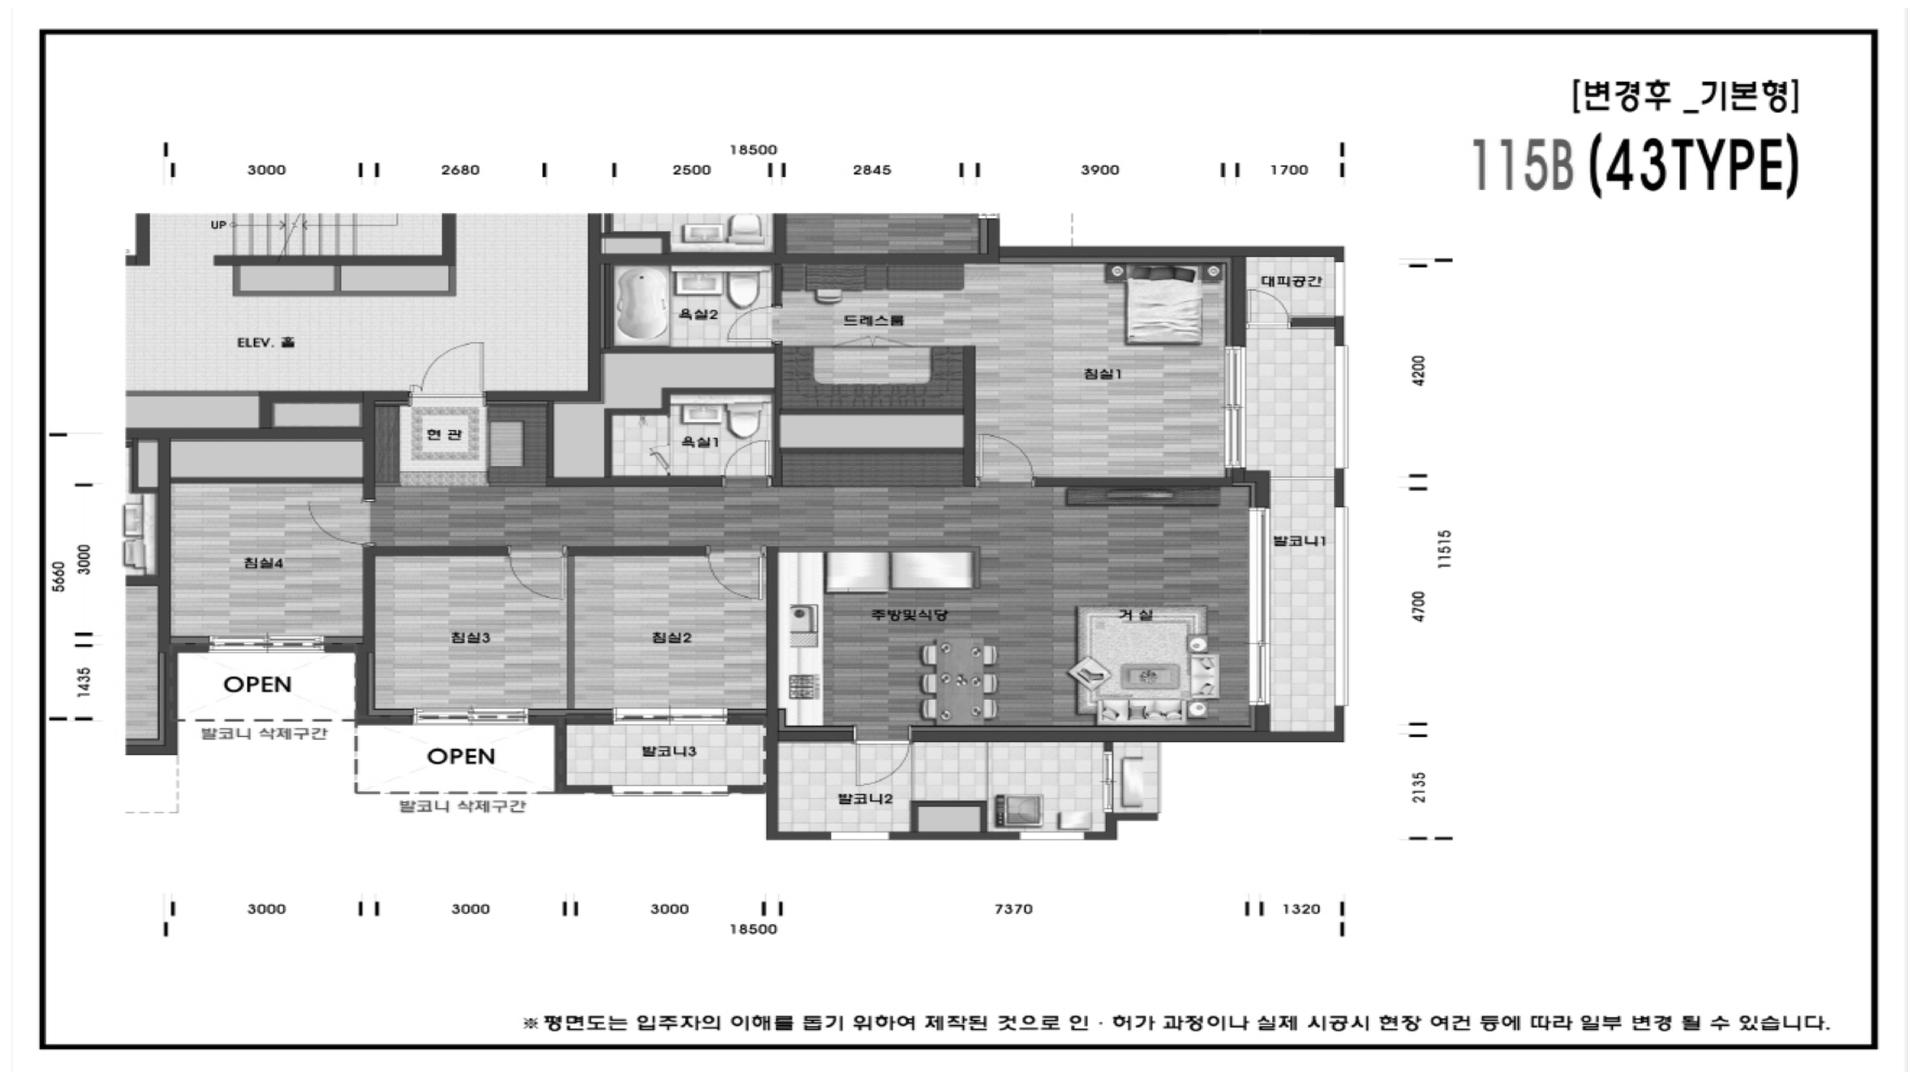door: (409, 342, 487, 406), (853, 725, 911, 787), (705, 546, 766, 601), (306, 498, 376, 546), (976, 434, 1035, 488), (508, 546, 566, 600), (723, 440, 771, 488), (727, 306, 782, 343), (1246, 289, 1291, 330)
wall: (487, 245, 1345, 401), (488, 265, 976, 488), (158, 392, 410, 654), (324, 546, 508, 725), (727, 546, 831, 840), (566, 546, 705, 711), (911, 705, 1345, 750), (1035, 468, 1271, 508), (778, 546, 980, 589), (527, 713, 613, 794), (781, 415, 963, 447), (910, 800, 988, 832), (1084, 812, 1159, 840), (170, 476, 363, 484), (1230, 257, 1246, 345), (889, 832, 1019, 840), (778, 731, 855, 742), (1291, 318, 1335, 330), (727, 713, 765, 725), (771, 264, 782, 306), (1335, 468, 1345, 506), (1255, 705, 1271, 731), (1333, 316, 1345, 345), (376, 483, 402, 487)
window: (1247, 508, 1271, 705), (1333, 506, 1350, 707), (1224, 345, 1246, 468), (208, 636, 324, 654), (413, 707, 527, 725), (613, 708, 728, 725), (1335, 345, 1349, 468), (611, 785, 728, 796), (1102, 750, 1113, 812), (1333, 262, 1345, 316), (831, 831, 889, 840), (1019, 832, 1085, 840)
